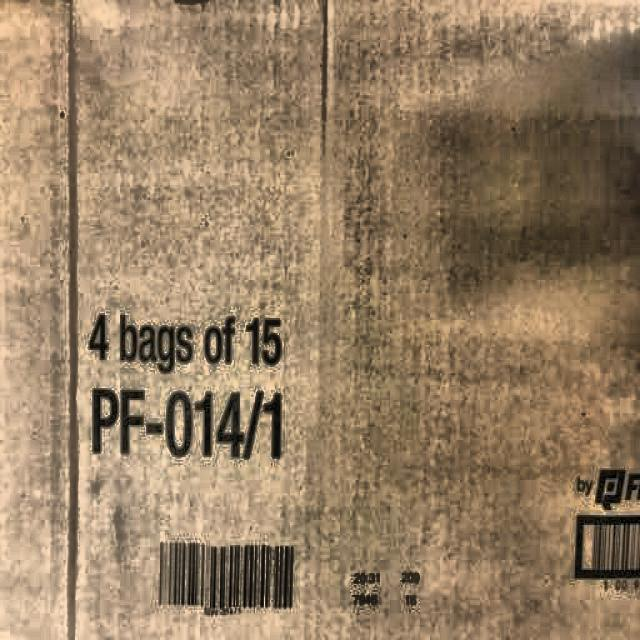cardboard: (8, 10, 639, 632)
